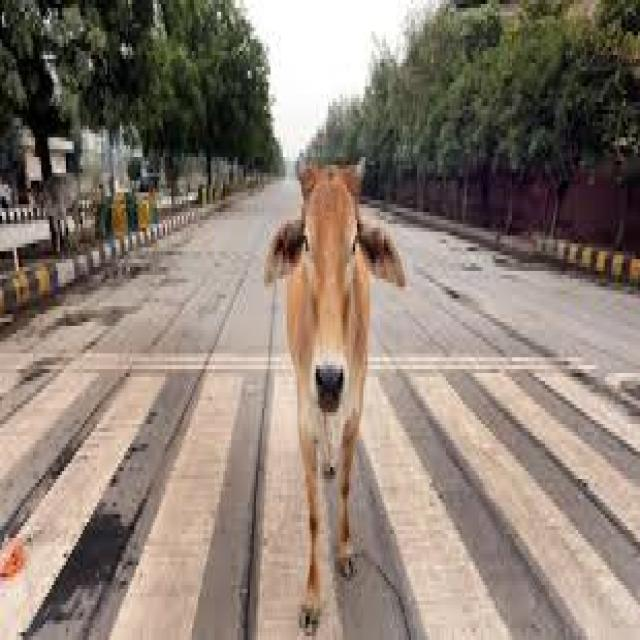cow: (297, 165, 363, 387)
